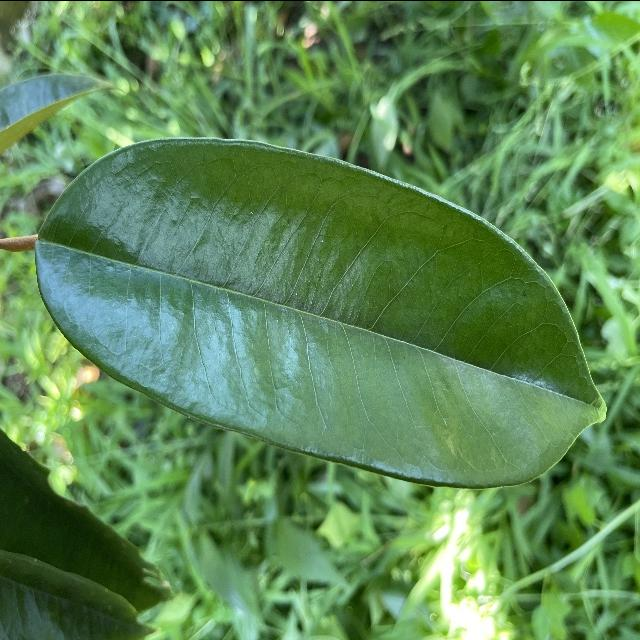No Disease: (27, 127, 611, 497)
